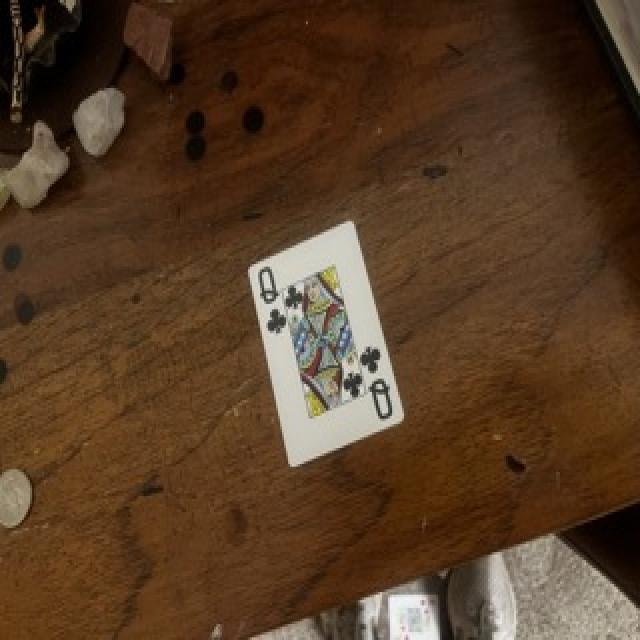Queen of clubs: (249, 222, 404, 467)
